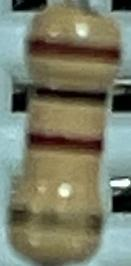Black: (28, 81, 110, 110)
Brown: (28, 38, 120, 66), (24, 132, 102, 157)
Side-Silver: (8, 208, 101, 235)
